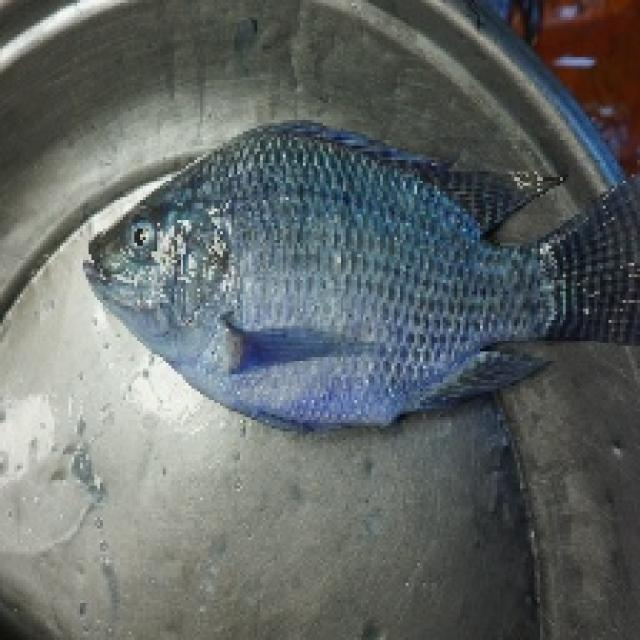Fresh: (77, 114, 554, 459)
